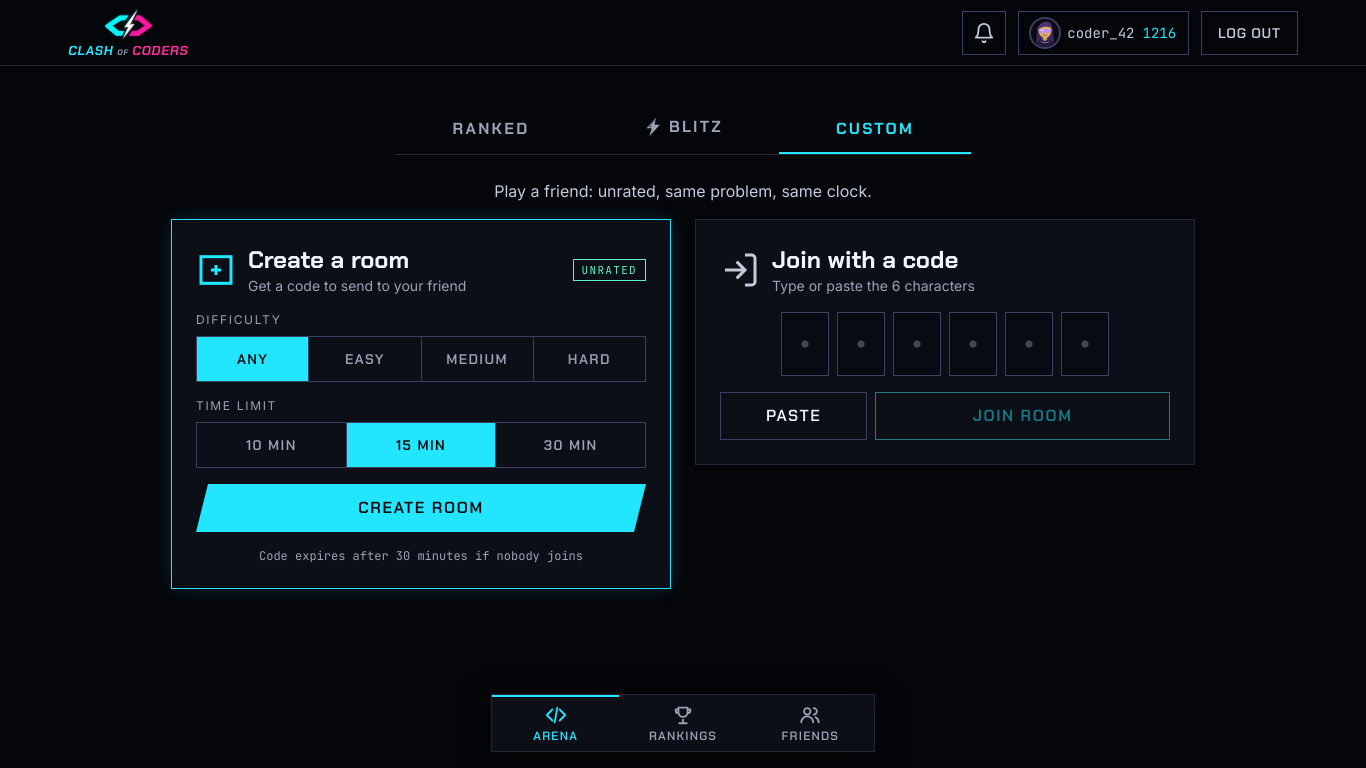
Test: arena: Ranked | Custom › tidies a typed code and goes to the join page
The width and height of the screenshot is (1366, 768).
Expected: the button "Join room" is disabled, [875,392,1170,440]
Type "k7m 2-q0x" into the field named "Room code" at (945, 344), box [781,312,1109,376]
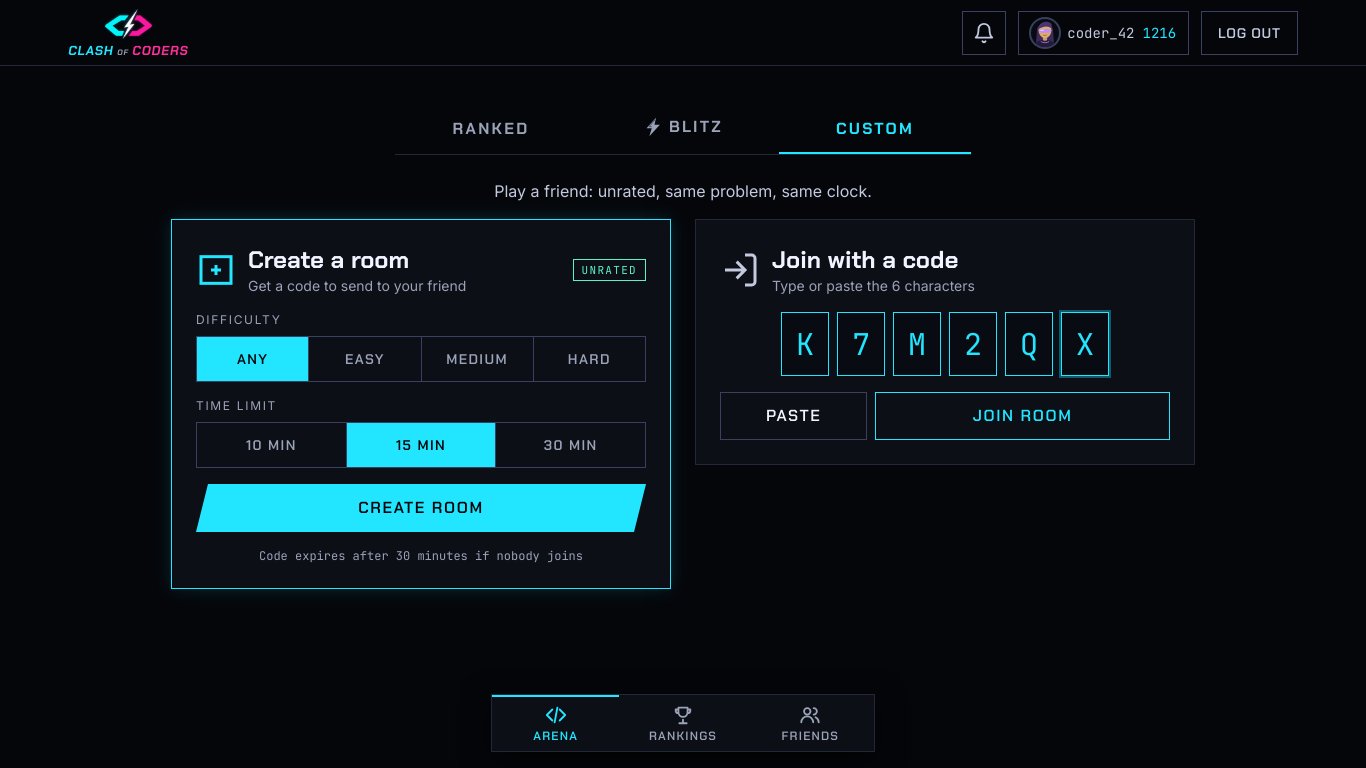
Click the button "Join room" at (1023, 416), box [875,392,1170,440]
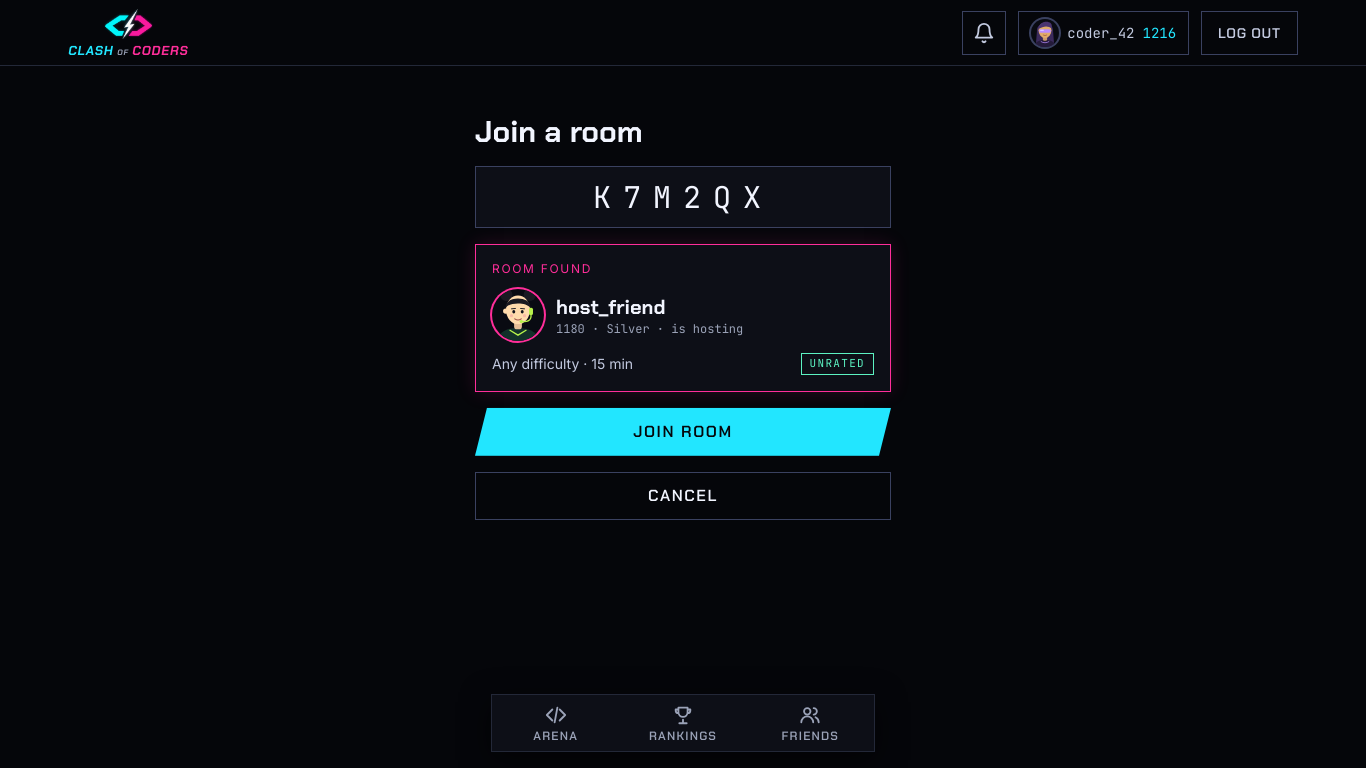
Expected: the element "Room found" is shown, [475,244,891,392]
